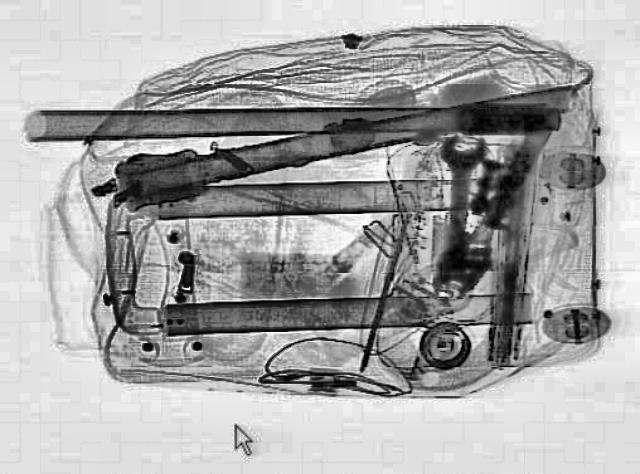Wrench: (429, 135, 489, 240)
